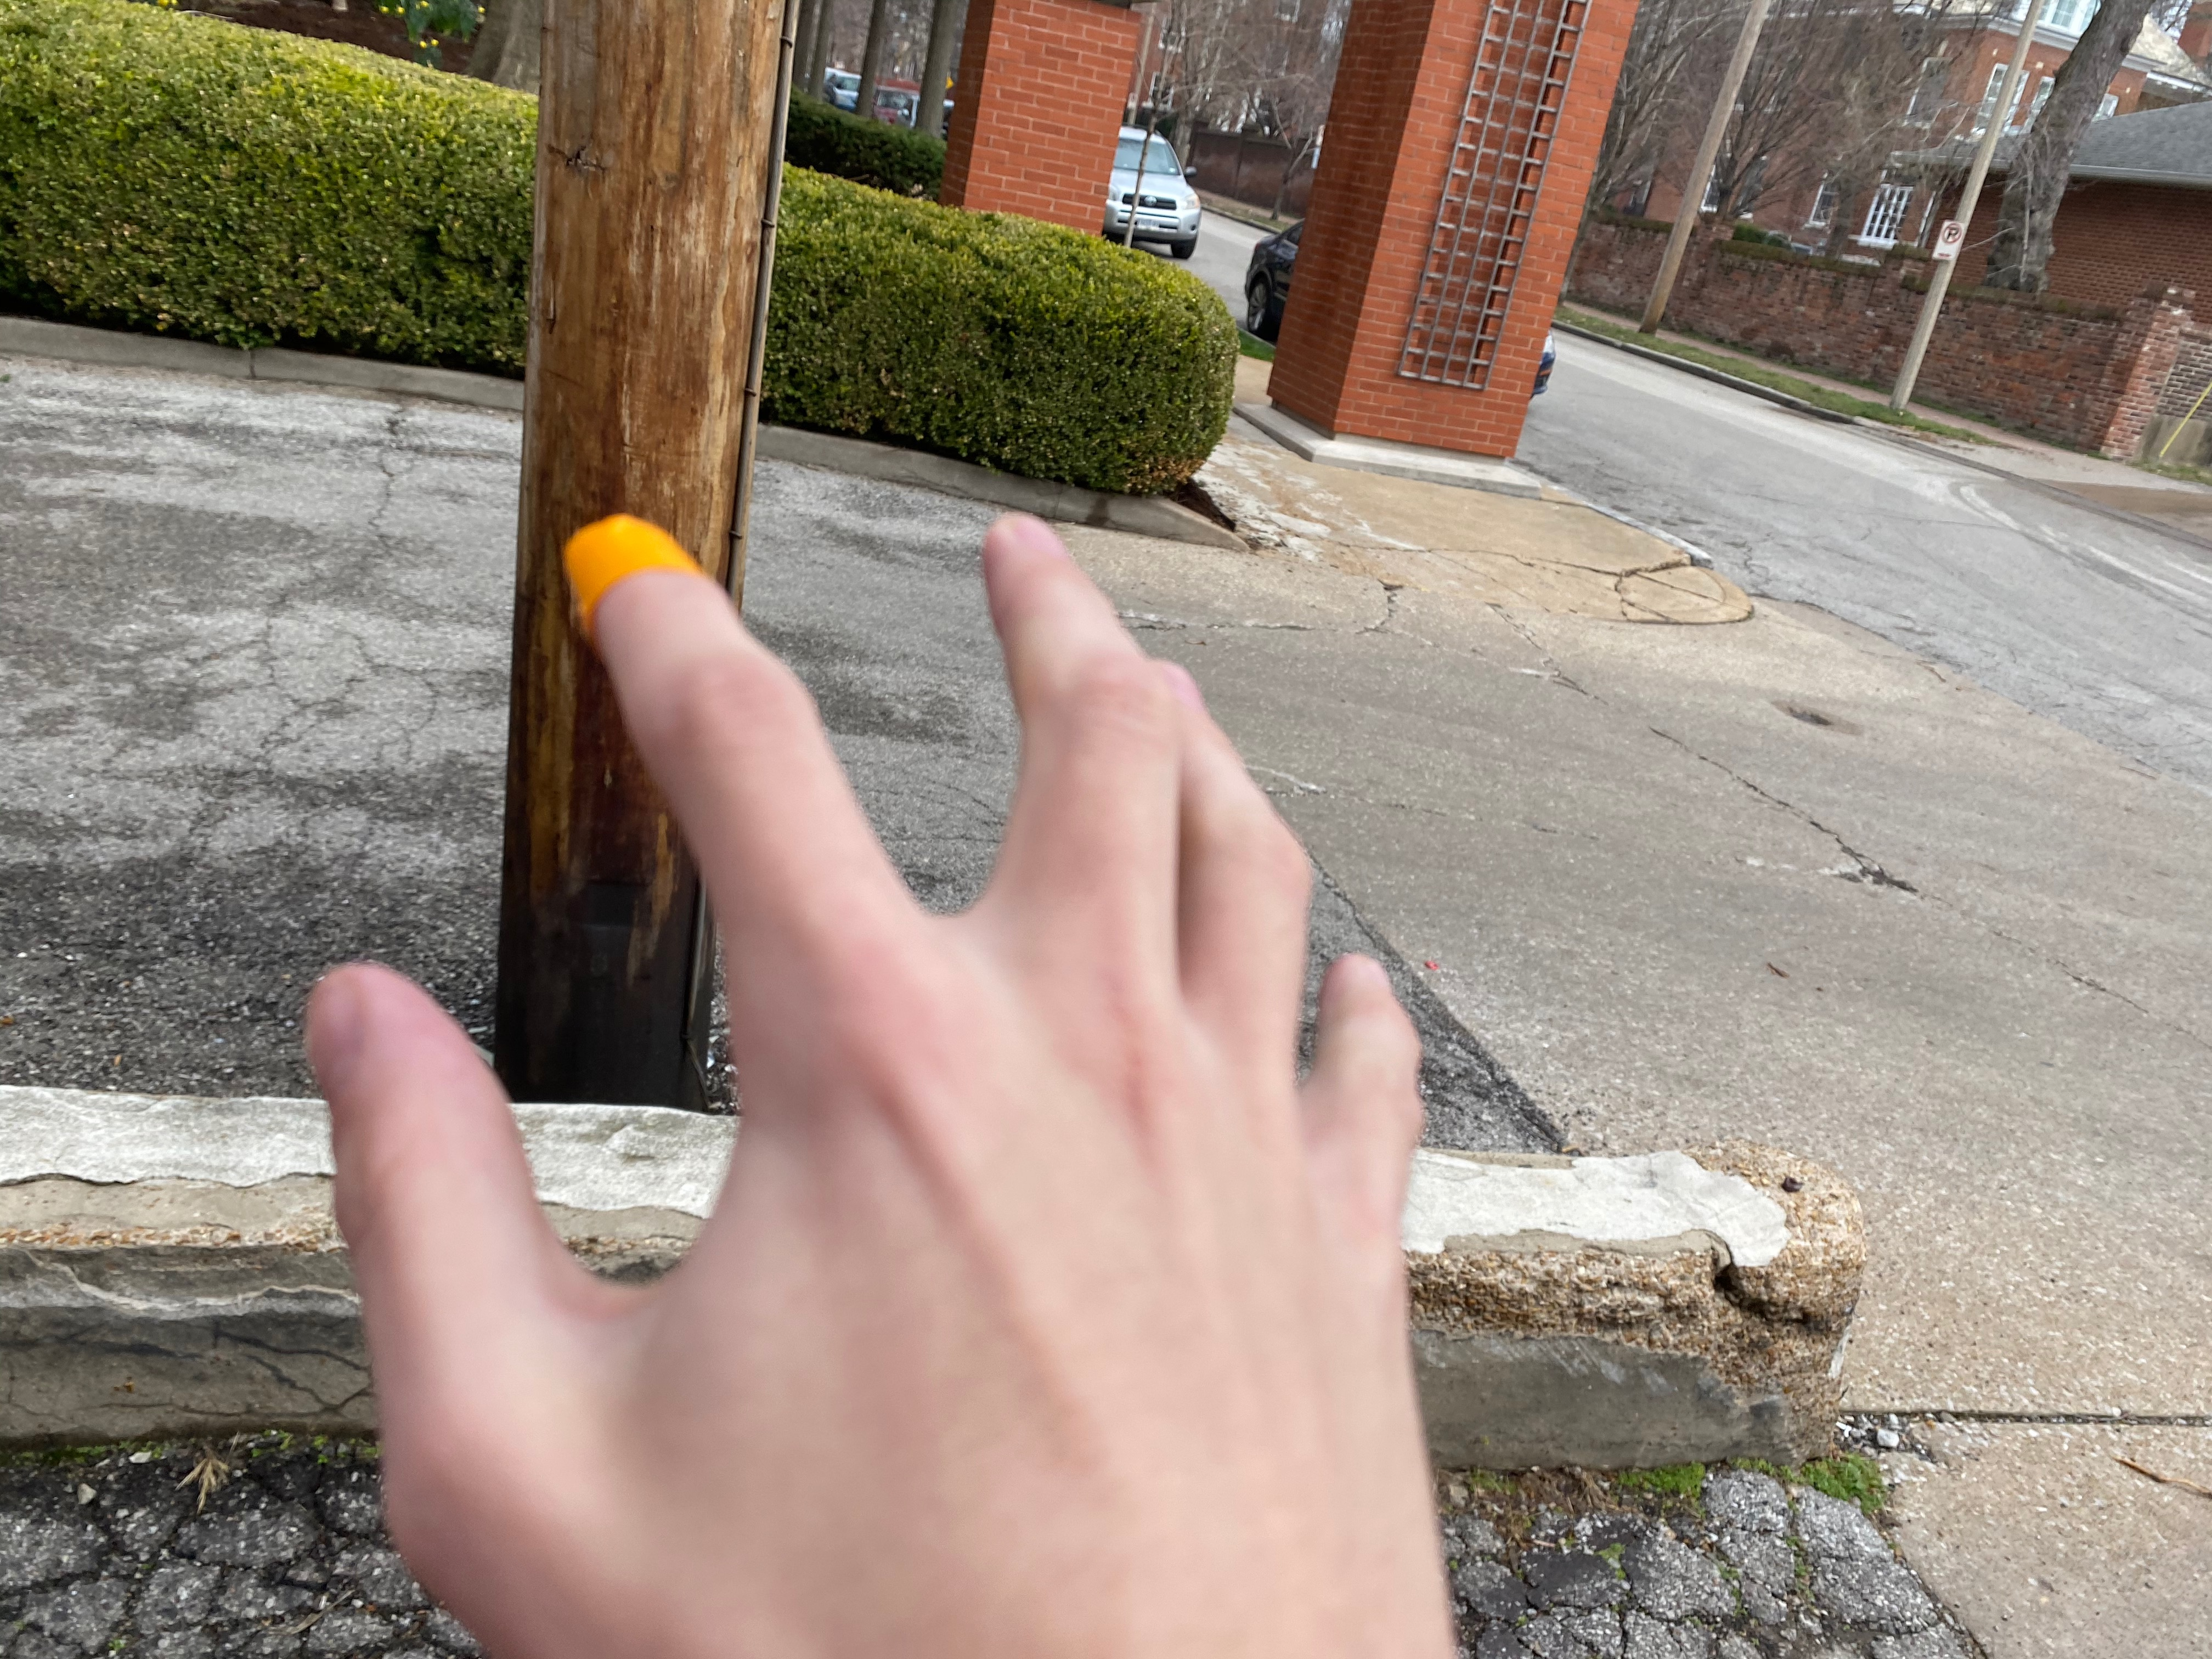fingertip: (529, 509, 754, 667)
